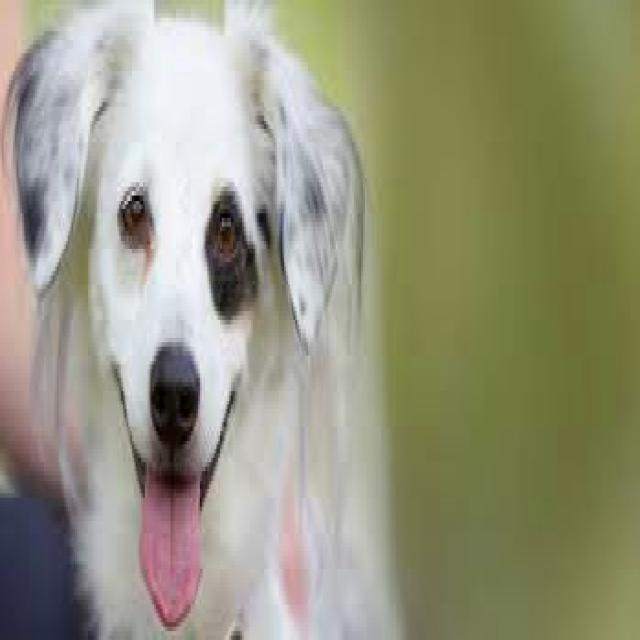dog: (4, 0, 400, 636)
